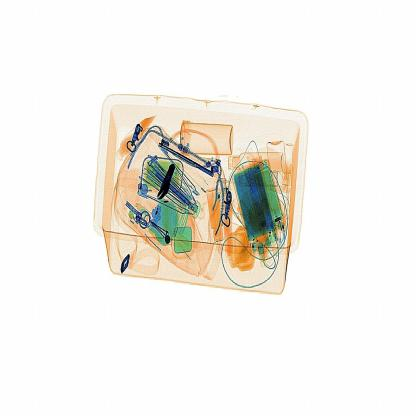knife: (156, 156, 184, 210)
